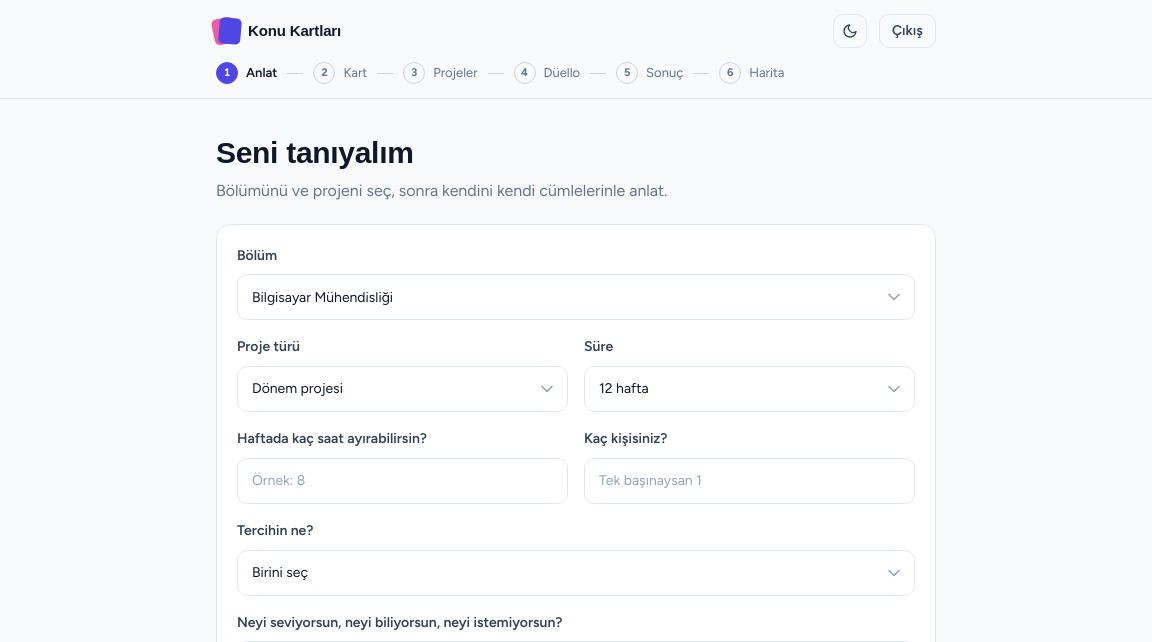
Seni tanıyalım (Anlat) › "Çıkış" jetonu ve cevapları siler, girişe döner
The width and height of the screenshot is (1152, 642).
Click the button "Çıkış".
click(908, 31)  # box [879,14,936,48]
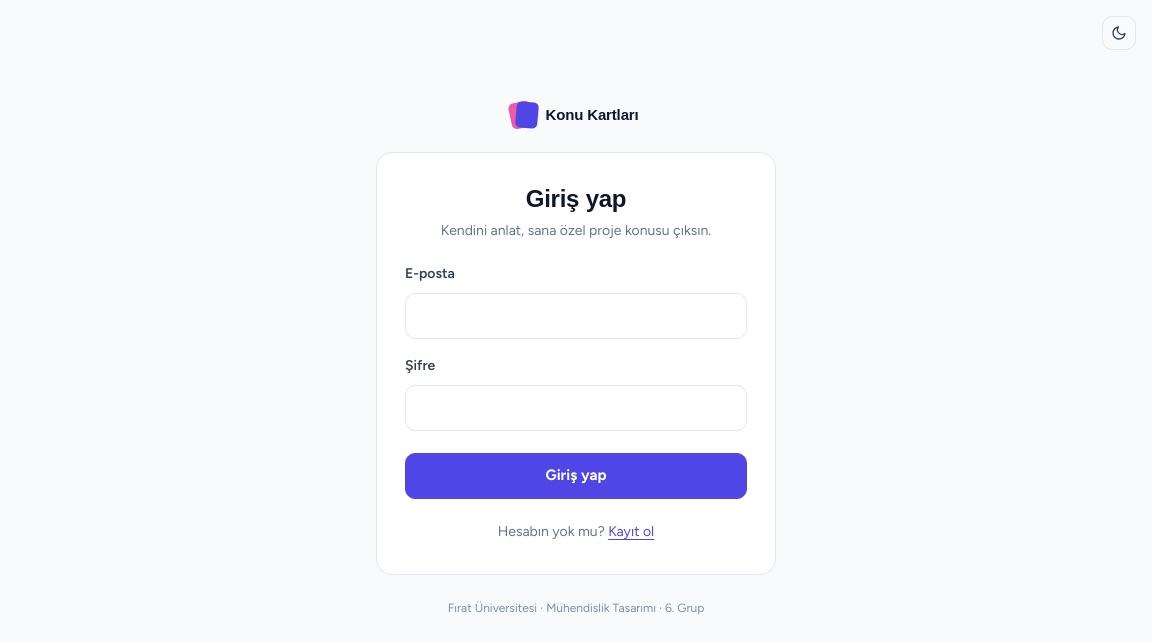
Expected: the heading "Giriş yap" is shown, [526,185,626,212]
